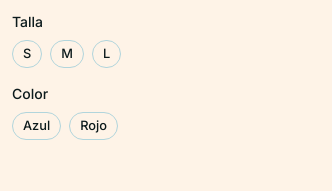
Test: VariantSelector › muestra el mensaje de sin stock cuando la combinación existe pero no hay stock
Click the button "M": click(67, 54) [50,40,84,68]
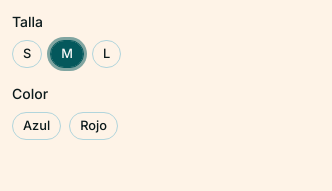
Click the button "Rojo": click(94, 126) [69,112,118,140]
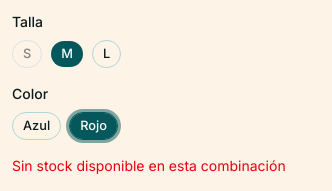
Expected: the text "Sin stock disponible en esta combinación" is shown, [12,157,286,174]
